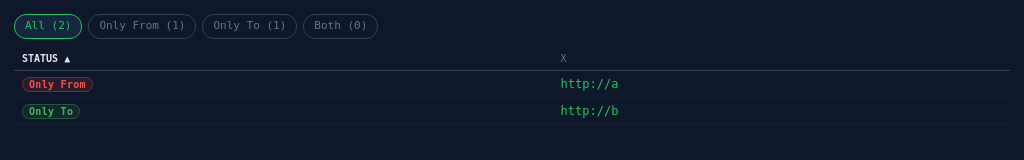
Test: DiffQueryView › filter pill narrows to one bucket
Click the button "Only From (1)" at point(142, 26), box [88,14,196,38]
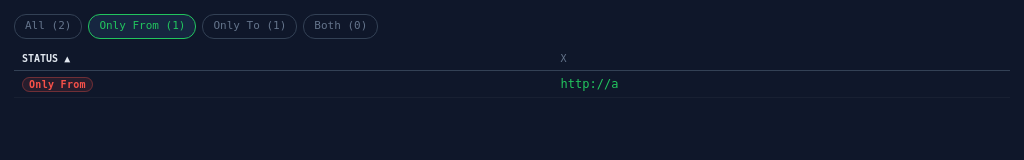
Expected: the link "http://a" is shown, [561,76,618,90]
Result: the link "http://b" is gone
